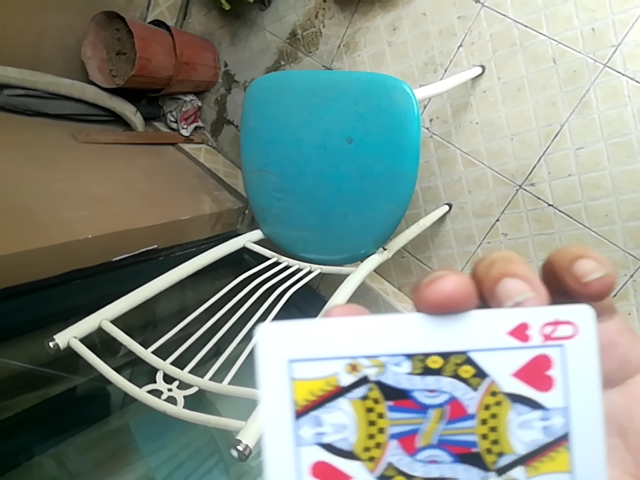hx q: (245, 301, 611, 479)
